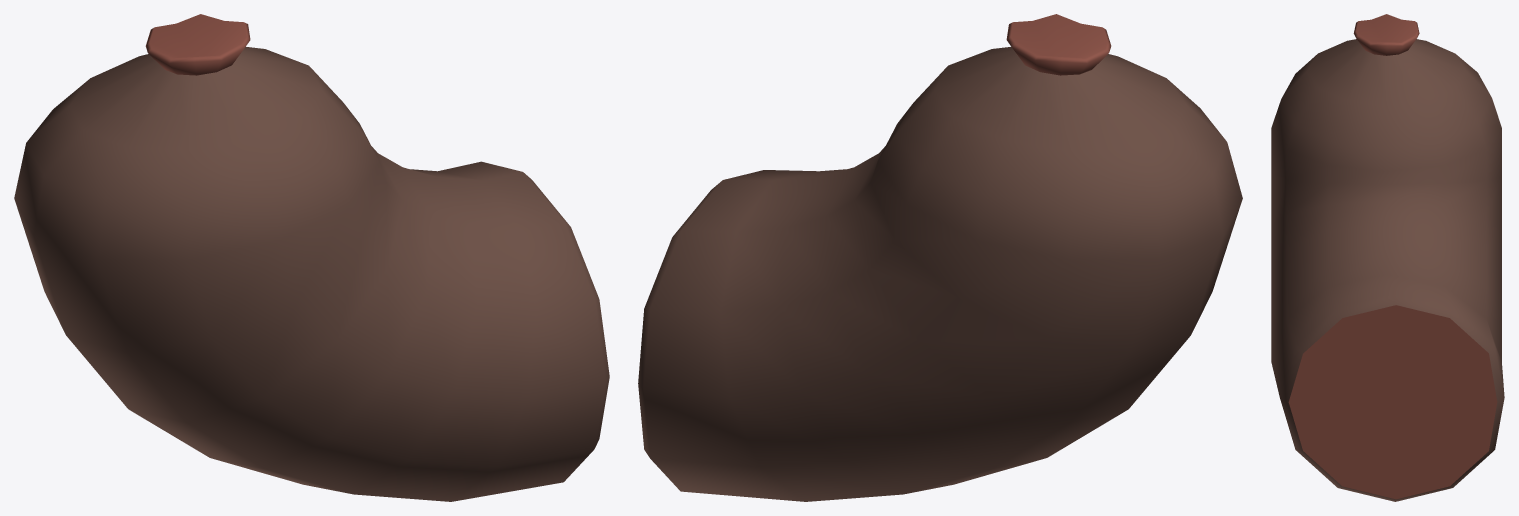
The model's file is Sausage_mini_half.006.fbx.
The picture shows the model from 3 angles, left to right: view 1: azimuth 30°, elevation 25°; view 2: azimuth 150°, elevation 25°; view 3: azimuth 270°, elevation 25°; orthographic projection. The views are drawn at different scales.
Visible parts, largest first — view 1: Sausage_mini_half.006; view 2: Sausage_mini_half.006; view 3: Sausage_mini_half.006.
Part boxes in pixels (x1,y1,x2,y2): Sausage_mini_half.006: (14, 14, 609, 501); Sausage_mini_half.006: (638, 14, 1242, 501); Sausage_mini_half.006: (1271, 14, 1504, 501).
Size of the model in its own units: 61.69 by 35.56 by 61.13.
